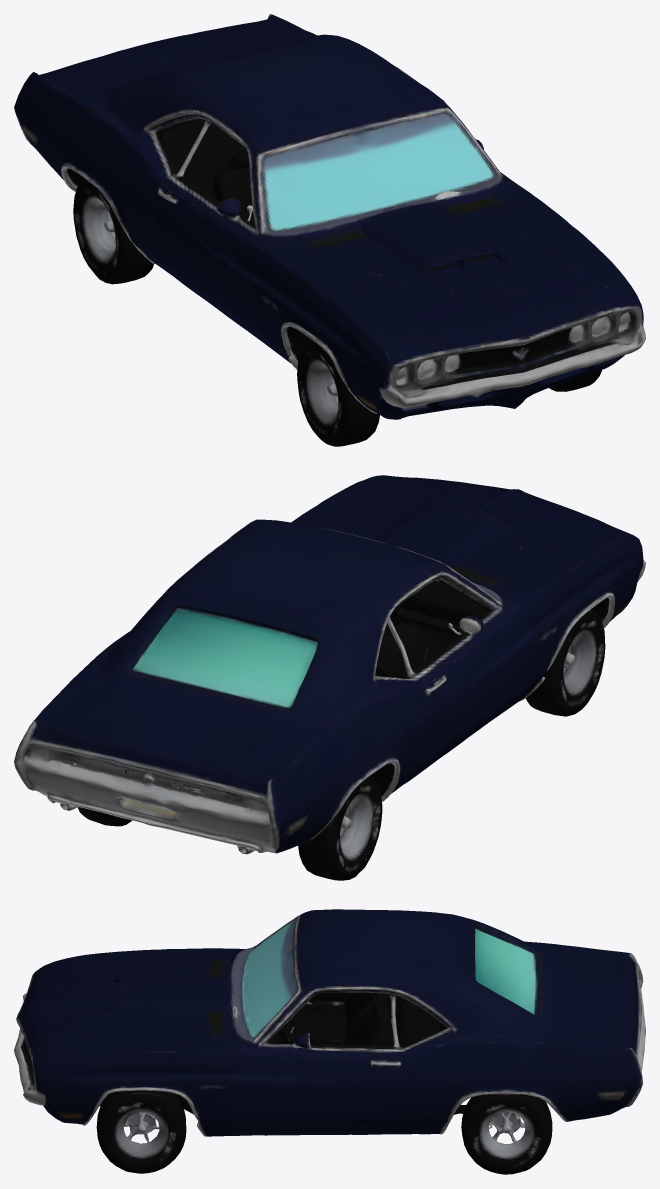
File: car_trellis_2.glb
3 renders of one model, top to bottom at view 1: azimuth 30°, elevation 25°; view 2: azimuth 150°, elevation 25°; view 3: azimuth 270°, elevation 25°, orthographic. The views are drawn at different scales.
Parts seen in each view (by area): view 1: world; view 2: world; view 3: world.
Part boxes in pixels (box(x1,y1,x2,y2)): world: box(14, 14, 645, 446); world: box(14, 475, 645, 880); world: box(14, 909, 645, 1174).
Size of the model in its own units: 0.4335 by 0.3227 by 1.
1 material, 1 textured.
